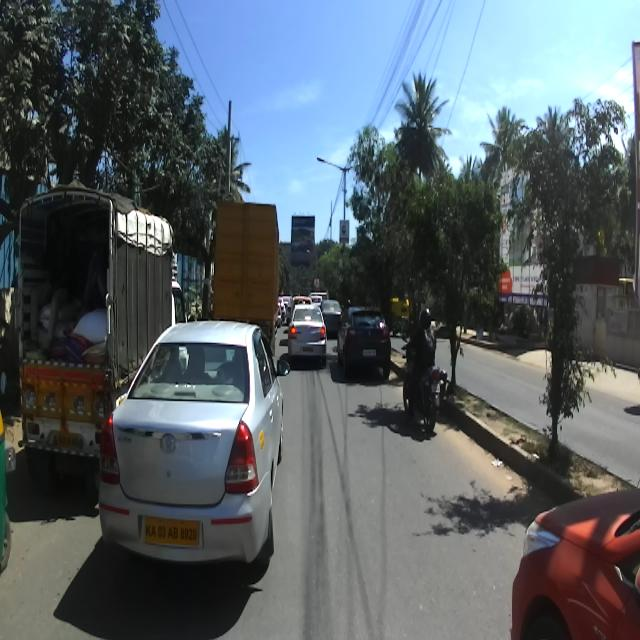car ahead at: (94, 312, 290, 581), (339, 306, 394, 381)
motorcycle ahead at: (400, 362, 446, 438)
